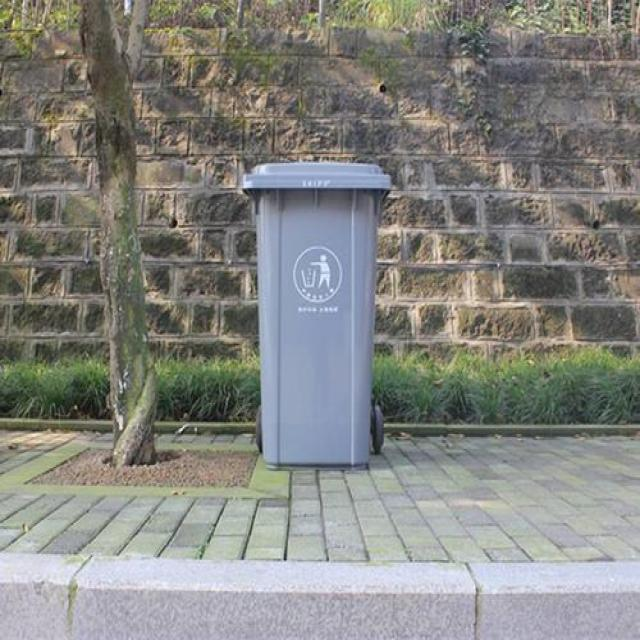garbage_bin: (240, 162, 390, 462)
